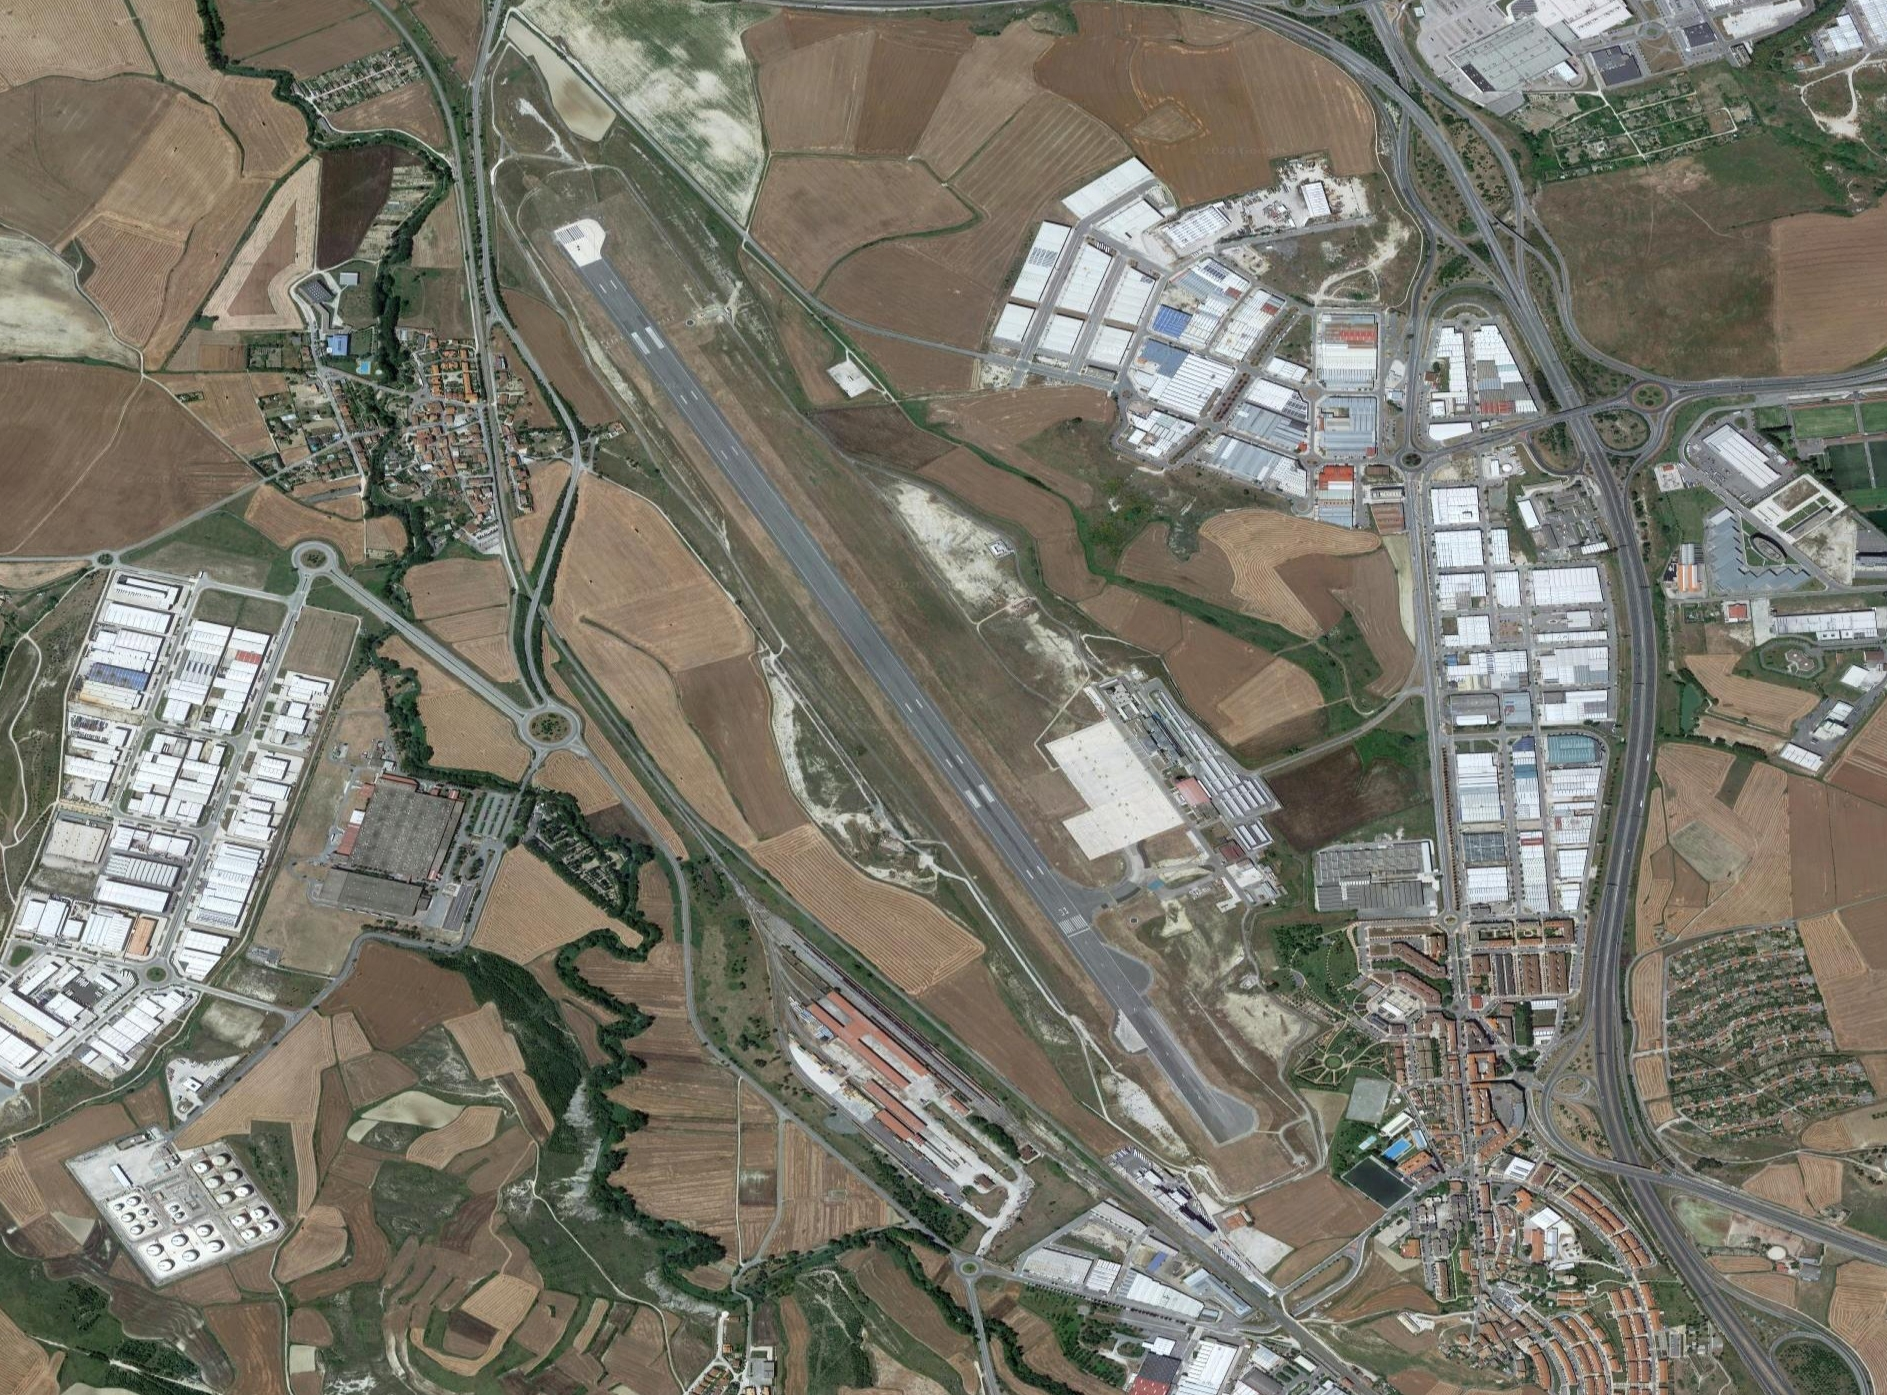airport: (545, 214, 1266, 1150)
industrial: (1, 558, 324, 1087), (1401, 308, 1631, 922), (1005, 161, 1398, 504)
motorway: (1357, 62, 1537, 267), (328, 571, 511, 721), (1672, 1159, 1887, 1265), (371, 1, 530, 130), (1557, 403, 1654, 571), (1579, 810, 1647, 1051), (1494, 270, 1609, 407), (1584, 1040, 1673, 1213), (1606, 360, 1887, 415), (1168, 1, 1404, 64), (1713, 1300, 1868, 1395), (1610, 574, 1667, 810), (469, 309, 530, 494), (485, 494, 546, 678), (440, 127, 500, 312), (1626, 1210, 1724, 1306)
train_station: (755, 928, 1026, 1207)
